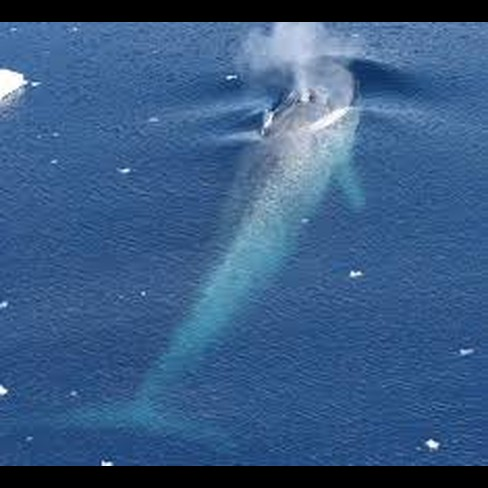bluewhale: (51, 55, 373, 456)
